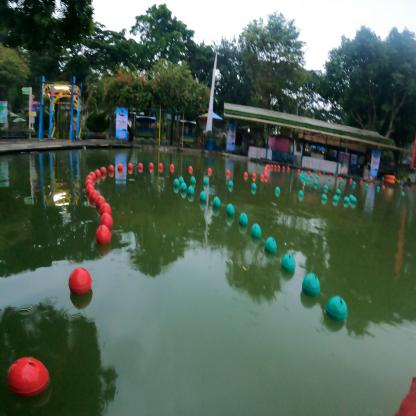red_buoy: (8, 352, 51, 398), (69, 265, 92, 297), (98, 222, 112, 241)
